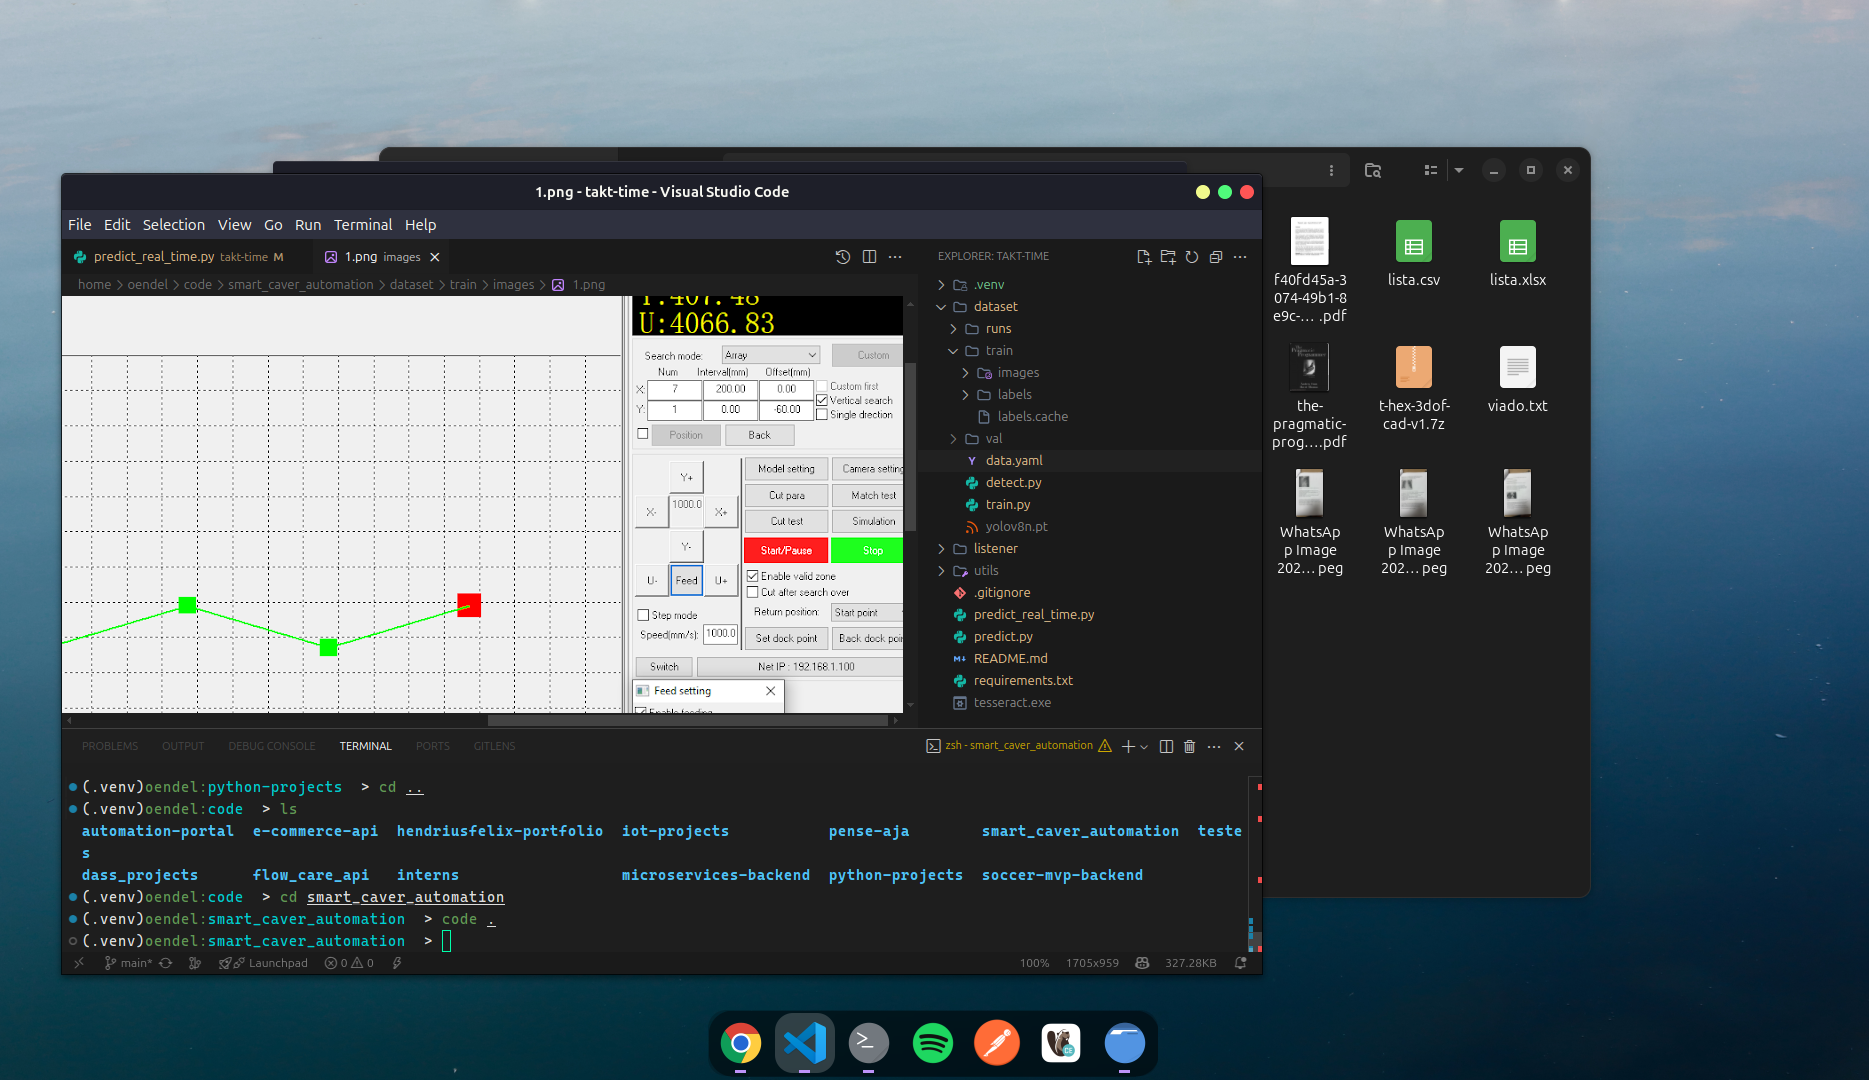start: (744, 537, 829, 562)
timer: (760, 366, 815, 419)
